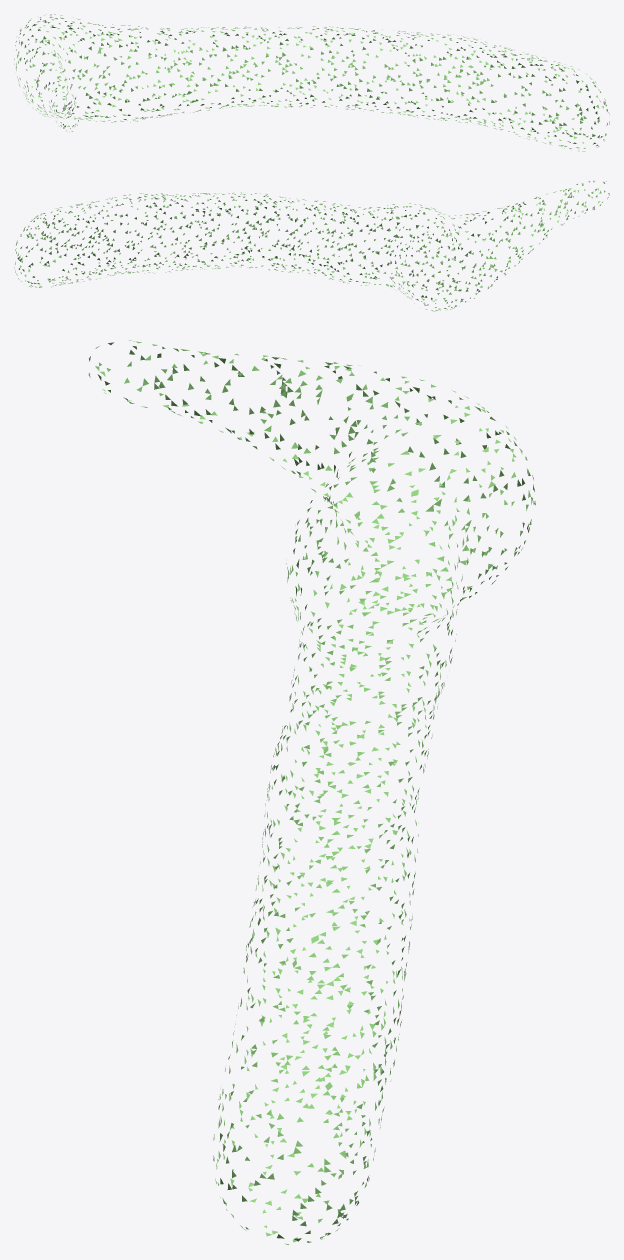
The model's file is morph_015.glb.
The picture shows the model from 3 angles, top to bottom: view 1: azimuth 30°, elevation 25°; view 2: azimuth 150°, elevation 25°; view 3: azimuth 270°, elevation 25°; orthographic projection. The views are drawn at different scales.
Bounding box in the file's own units: 120 × 43.42 × 43.03.
